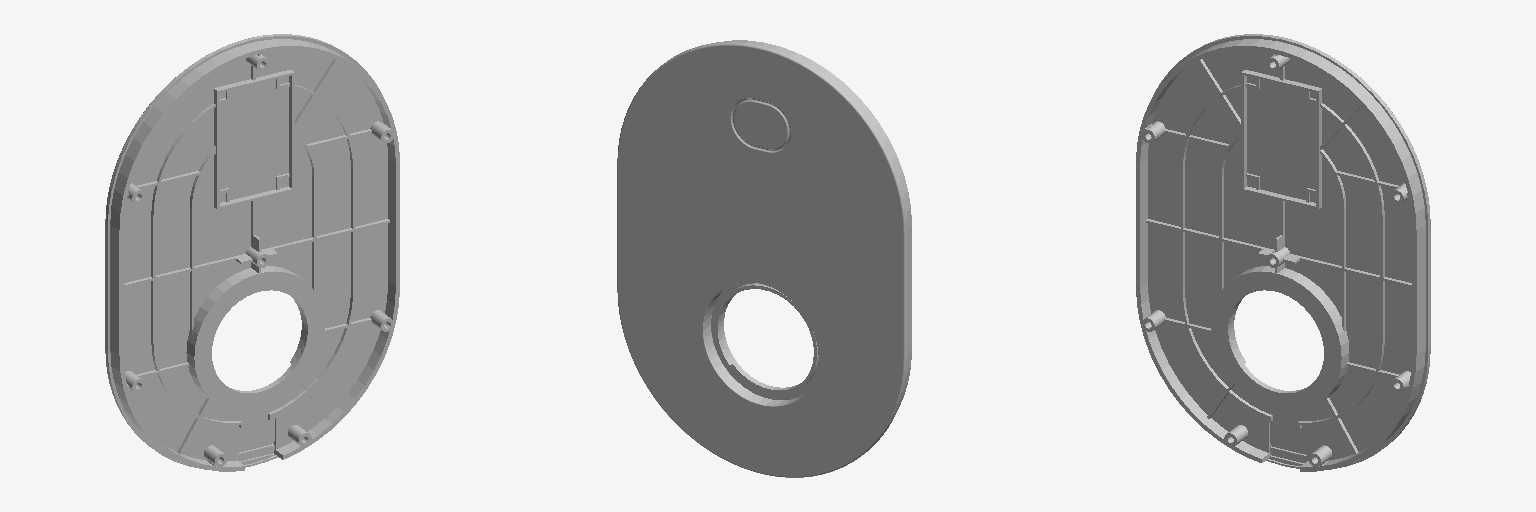
3 renders of one model, left to right at view 1: azimuth 30°, elevation 25°; view 2: azimuth 150°, elevation 25°; view 3: azimuth 330°, elevation 25°, orthographic.
Parts seen in each view (by area): view 1: _____________DI_ZHUO_SHANG_GAI_1; view 2: _____________DI_ZHUO_SHANG_GAI_1; view 3: _____________DI_ZHUO_SHANG_GAI_1.
Boxes of the visible parts, box(x1,y1,x2,y2) form: _____________DI_ZHUO_SHANG_GAI_1: box(105, 34, 399, 471); _____________DI_ZHUO_SHANG_GAI_1: box(617, 40, 911, 477); _____________DI_ZHUO_SHANG_GAI_1: box(1136, 34, 1430, 471).
Bounding box in the file's own units: 120 × 169 × 10.4.